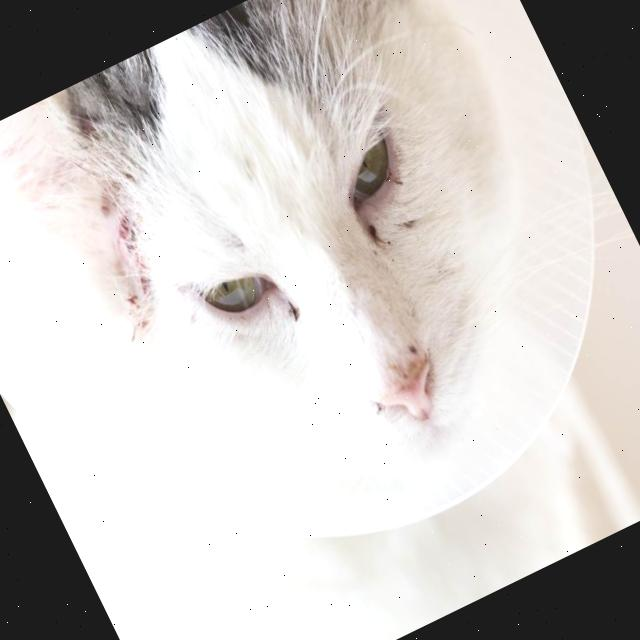cat-eye: (314, 78, 472, 258), (192, 242, 314, 362)
